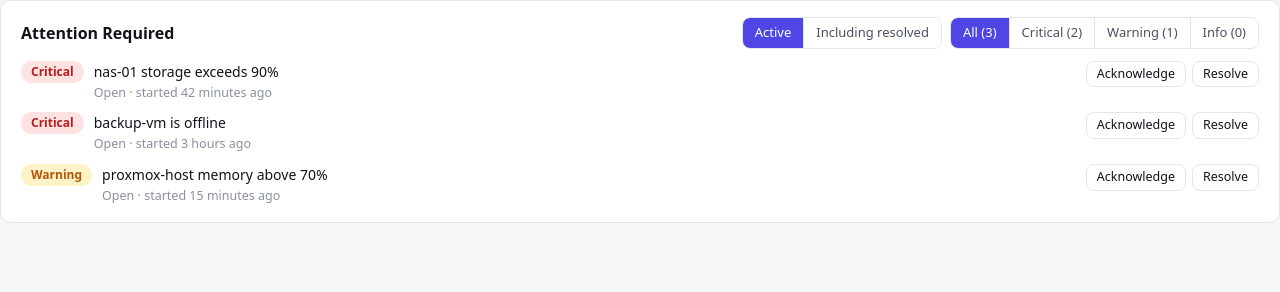
Scenario: AlertsPanel actions › lets an operator acknowledge, then resolve an alert
Click the button "Acknowledge" in the row of "backup-vm is offline".
click(1136, 126)  # box [1086,112,1186,139]
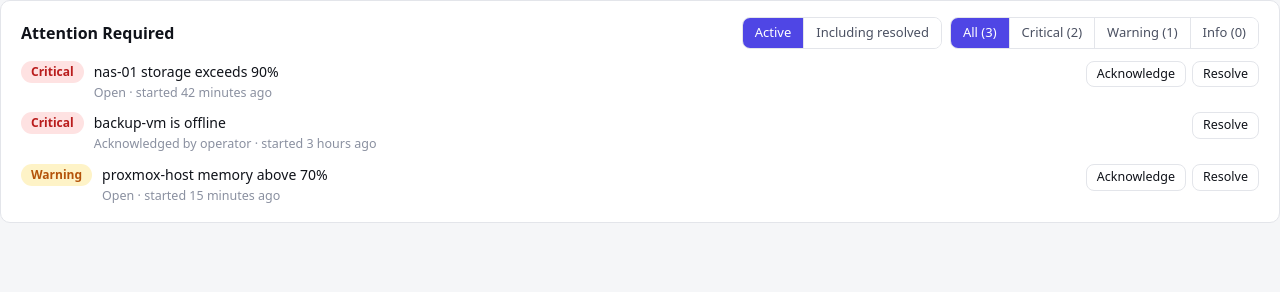
Result: the text "Acknowledged by operator · started 3 hours ago" is shown at [94,135,376,152]
Click the button "Resolve" in the row of "backup-vm is offline".
click(1226, 126)  # box [1192,112,1259,139]
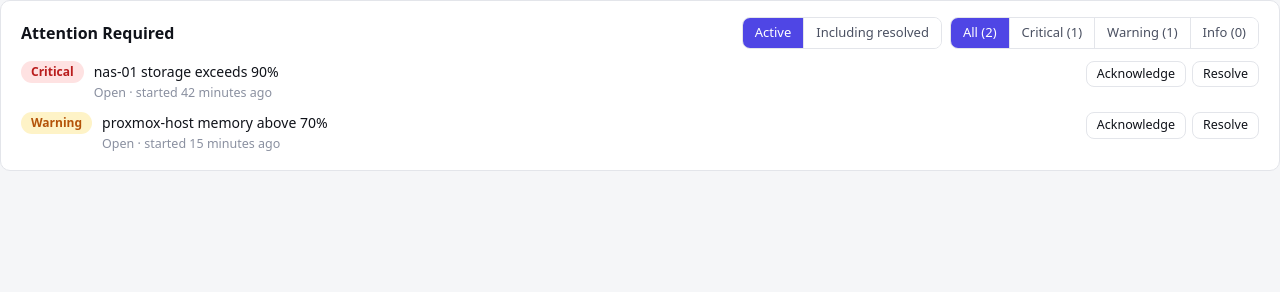
Result: the link "backup-vm is offline" is gone
Click the button "Including resolved".
click(873, 33)  # box [804,18,941,48]
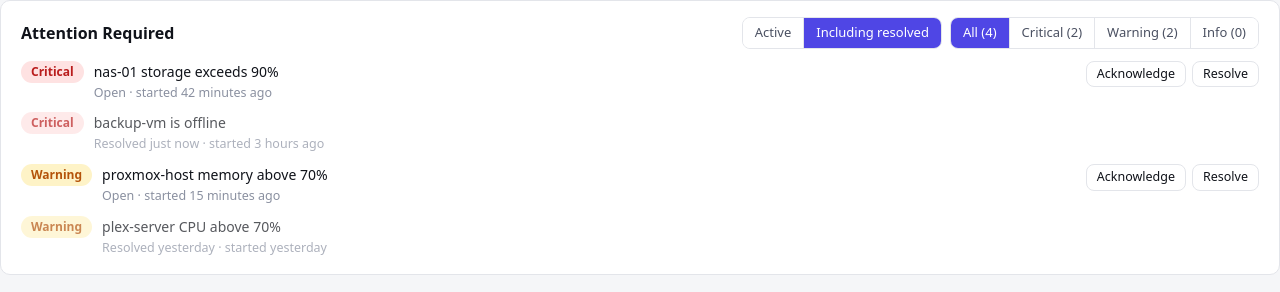
Result: the link "backup-vm is offline" is shown at [94,113,226,132]
